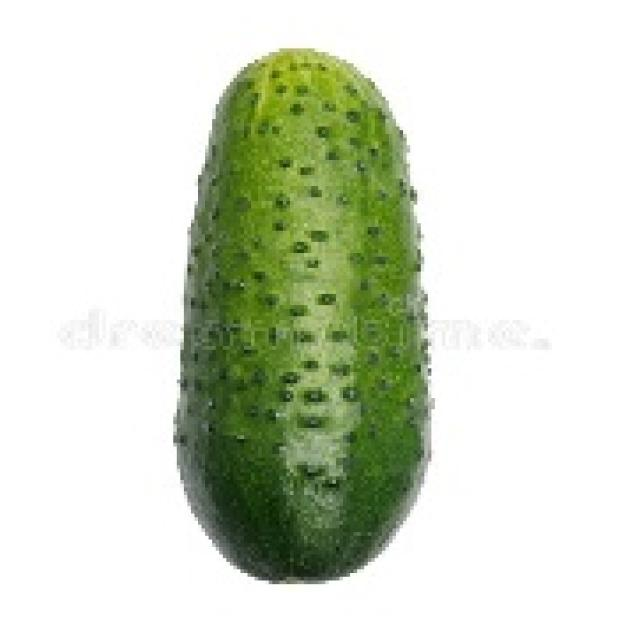cucumber: (163, 34, 431, 592)
